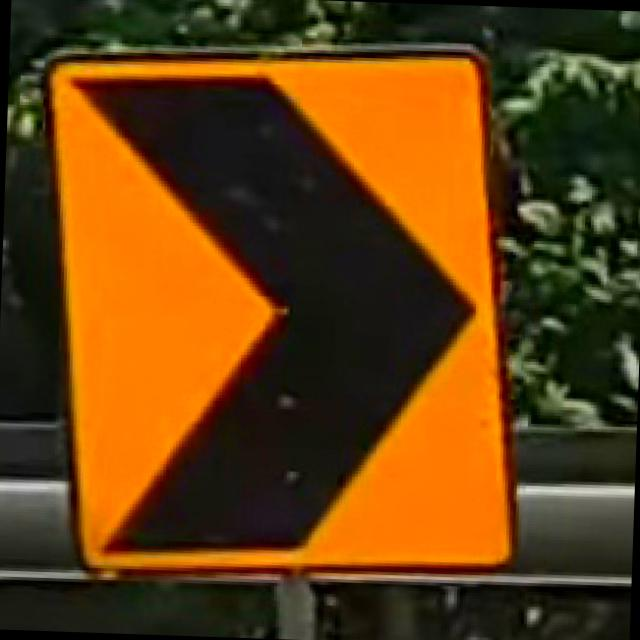curveright_sign: (20, 26, 538, 589)
